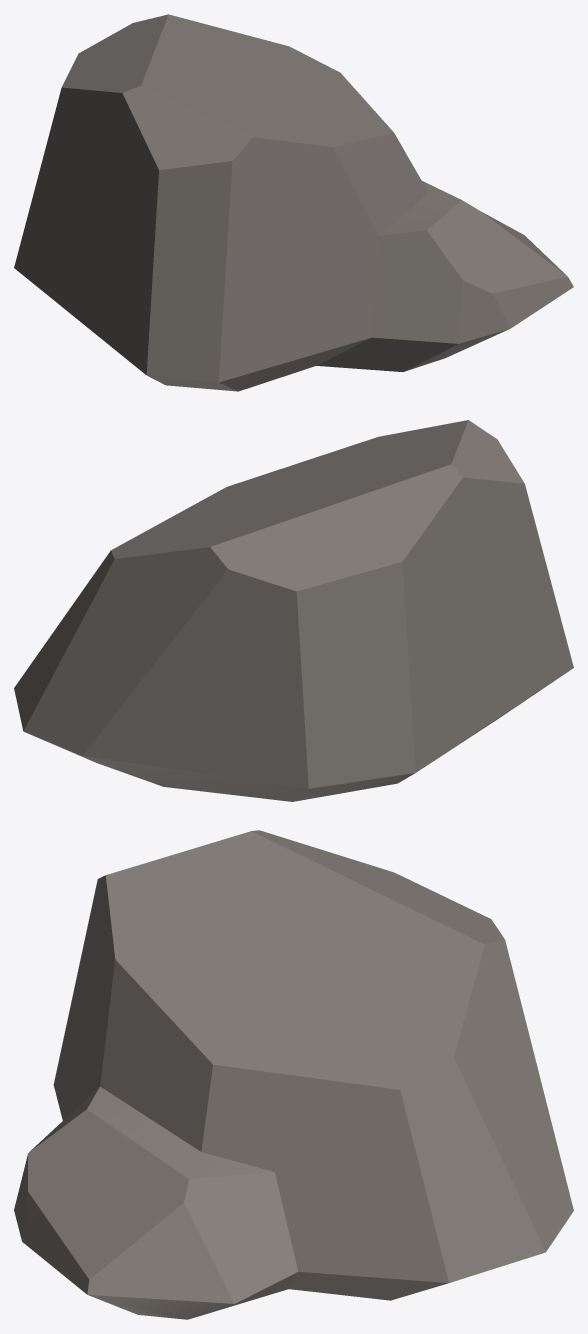
File: mdl_islandRocks02.fbx
The picture shows the model from 3 angles, top to bottom: view 1: azimuth 30°, elevation 25°; view 2: azimuth 150°, elevation 25°; view 3: azimuth 270°, elevation 25°; orthographic projection. The views are drawn at different scales.
Parts seen in each view (by area): view 1: mdl_islandRocks05; view 2: mdl_islandRocks05; view 3: mdl_islandRocks05.
Part boxes in pixels (bbox=[...]): mdl_islandRocks05: bbox=[14, 14, 573, 391]; mdl_islandRocks05: bbox=[14, 420, 573, 801]; mdl_islandRocks05: bbox=[14, 830, 573, 1319].
Size of the model in its own units: 88.3 by 53.32 by 87.76.
